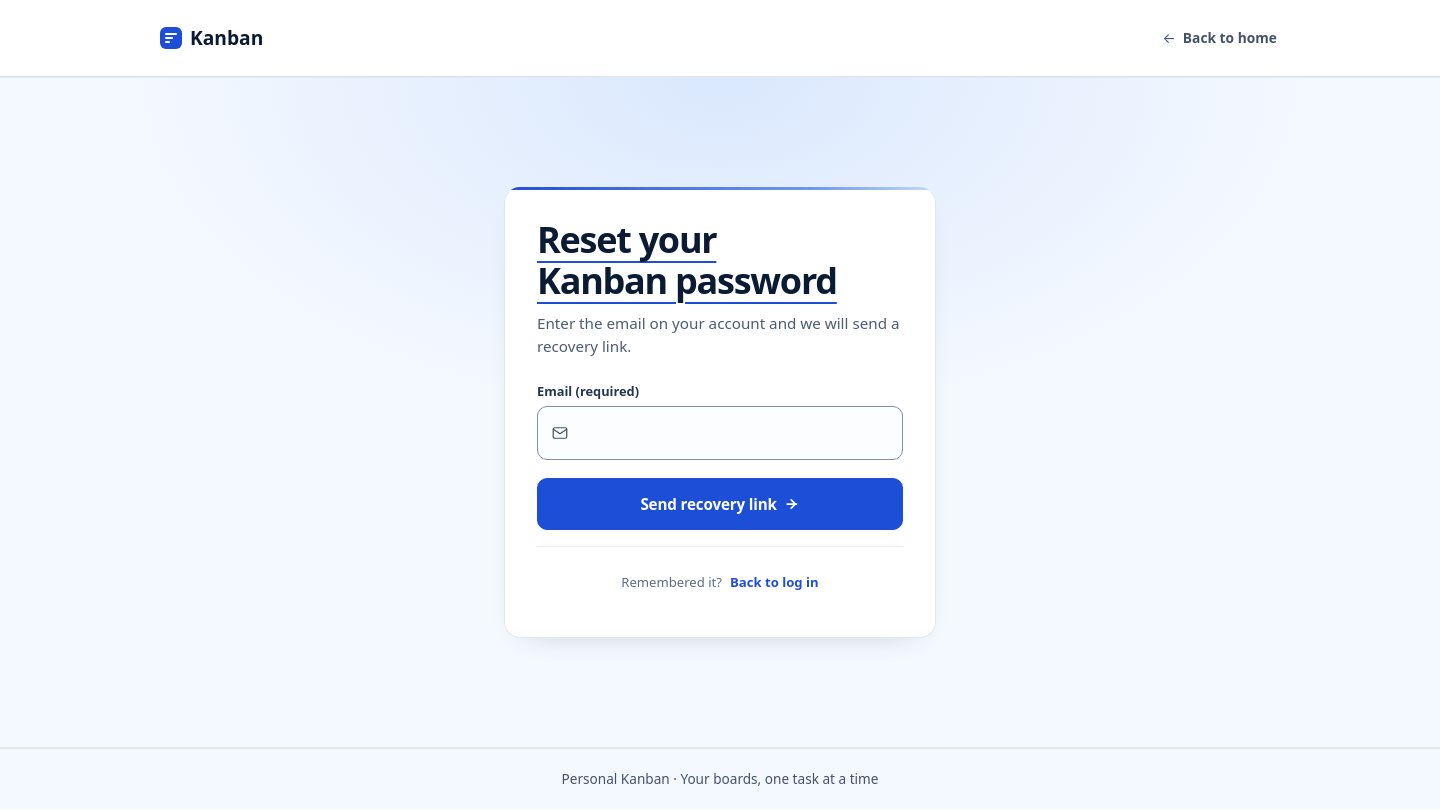
Test: auth lifecycle and routes › gives a neutral recovery response even when provider rejects
The width and height of the screenshot is (1440, 810).
Step 1. Type "nobody@example.test" into the field labelled "Email (required)" → [720, 433], box left=537, top=406, right=903, bottom=460
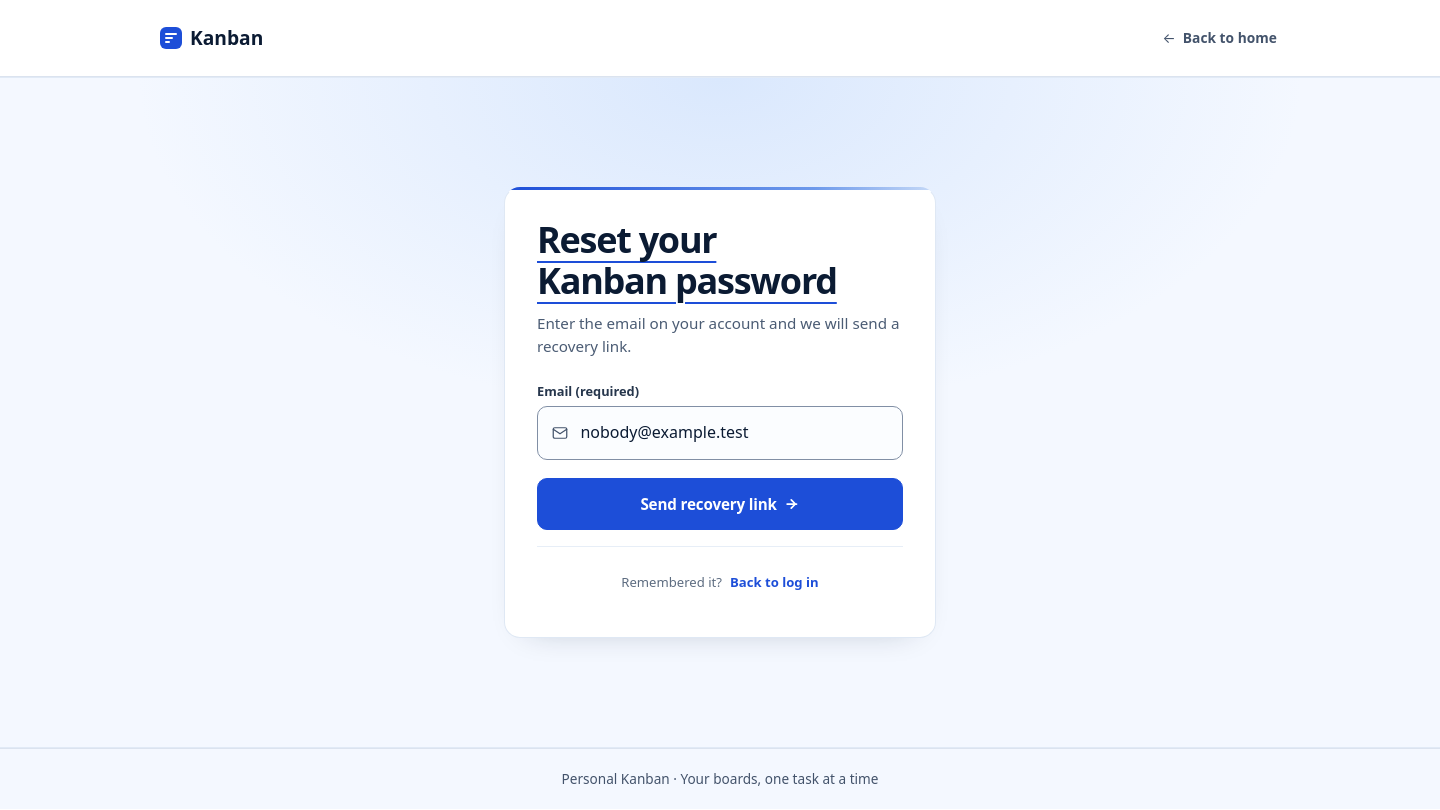
Step 2. Submit the form, box left=537, top=383, right=903, bottom=530
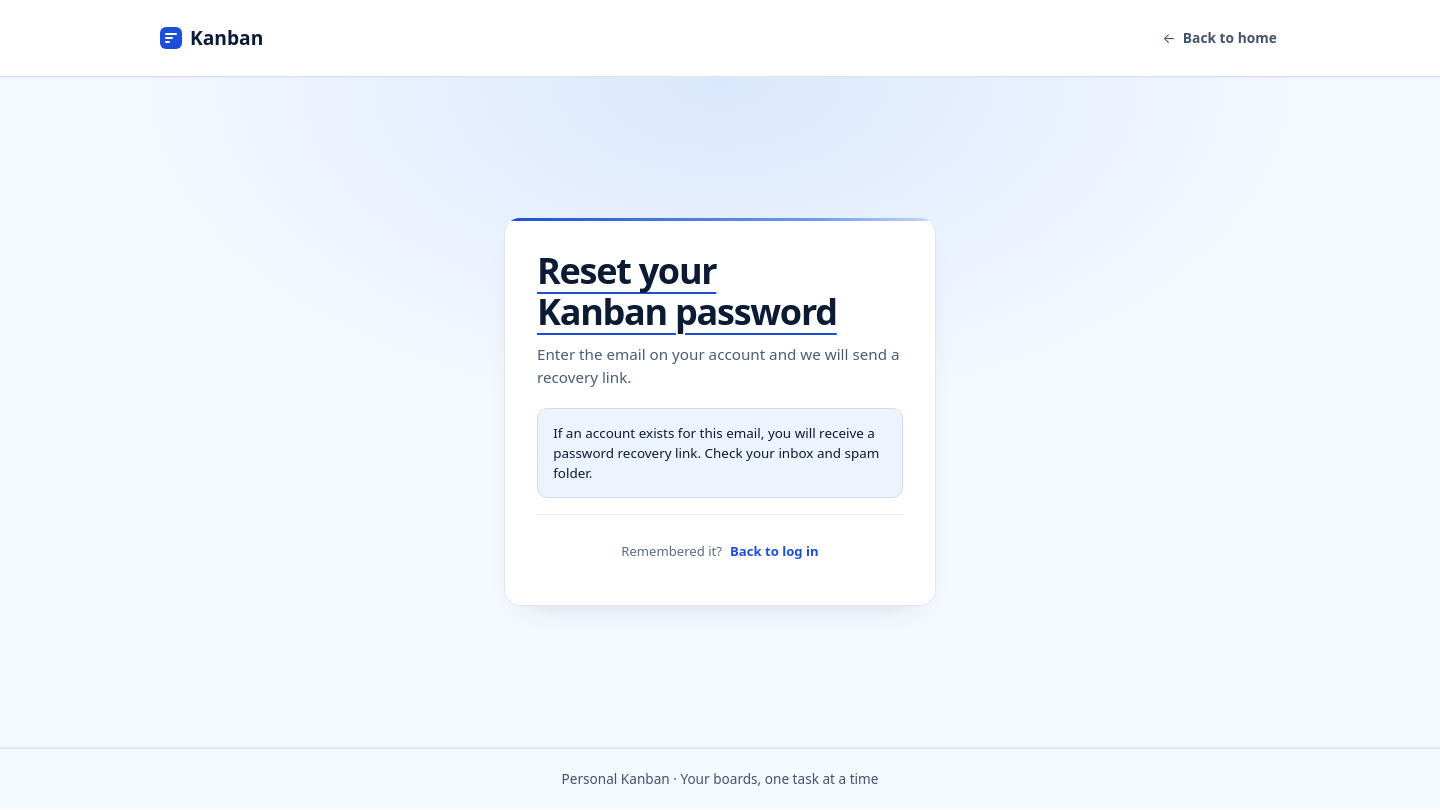
Result: the text "If an account exists" is shown at left=553, top=424, right=879, bottom=482
